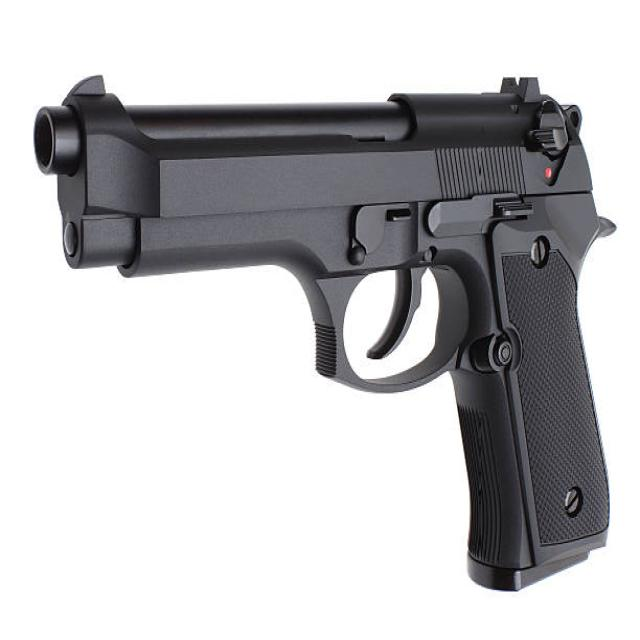pistol: (11, 58, 618, 602)
